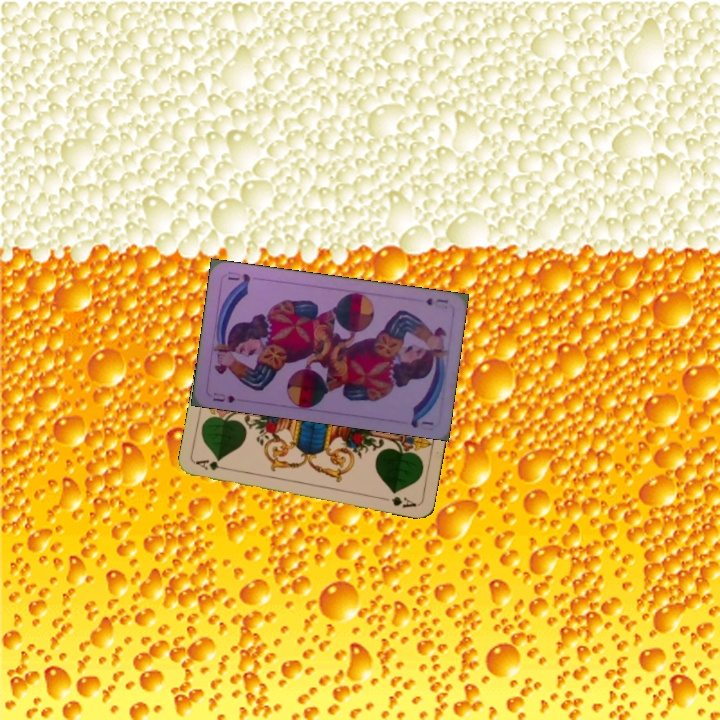GA: (192, 455, 233, 473)
SU: (207, 388, 238, 405), (422, 294, 451, 308)
